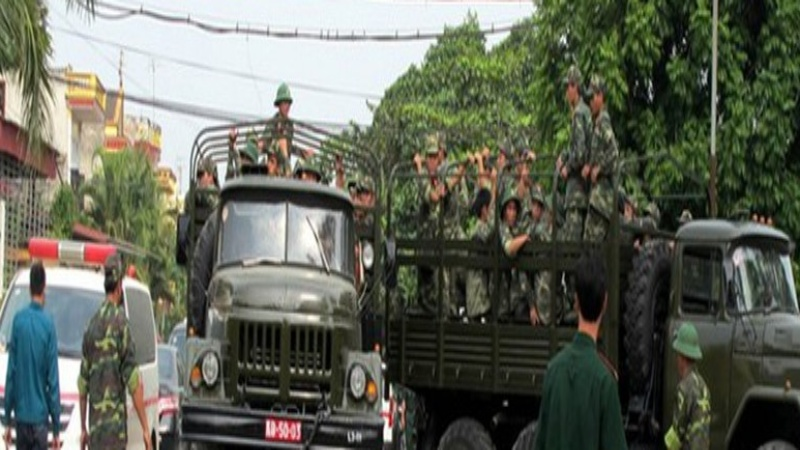plate: (265, 416, 306, 440)
